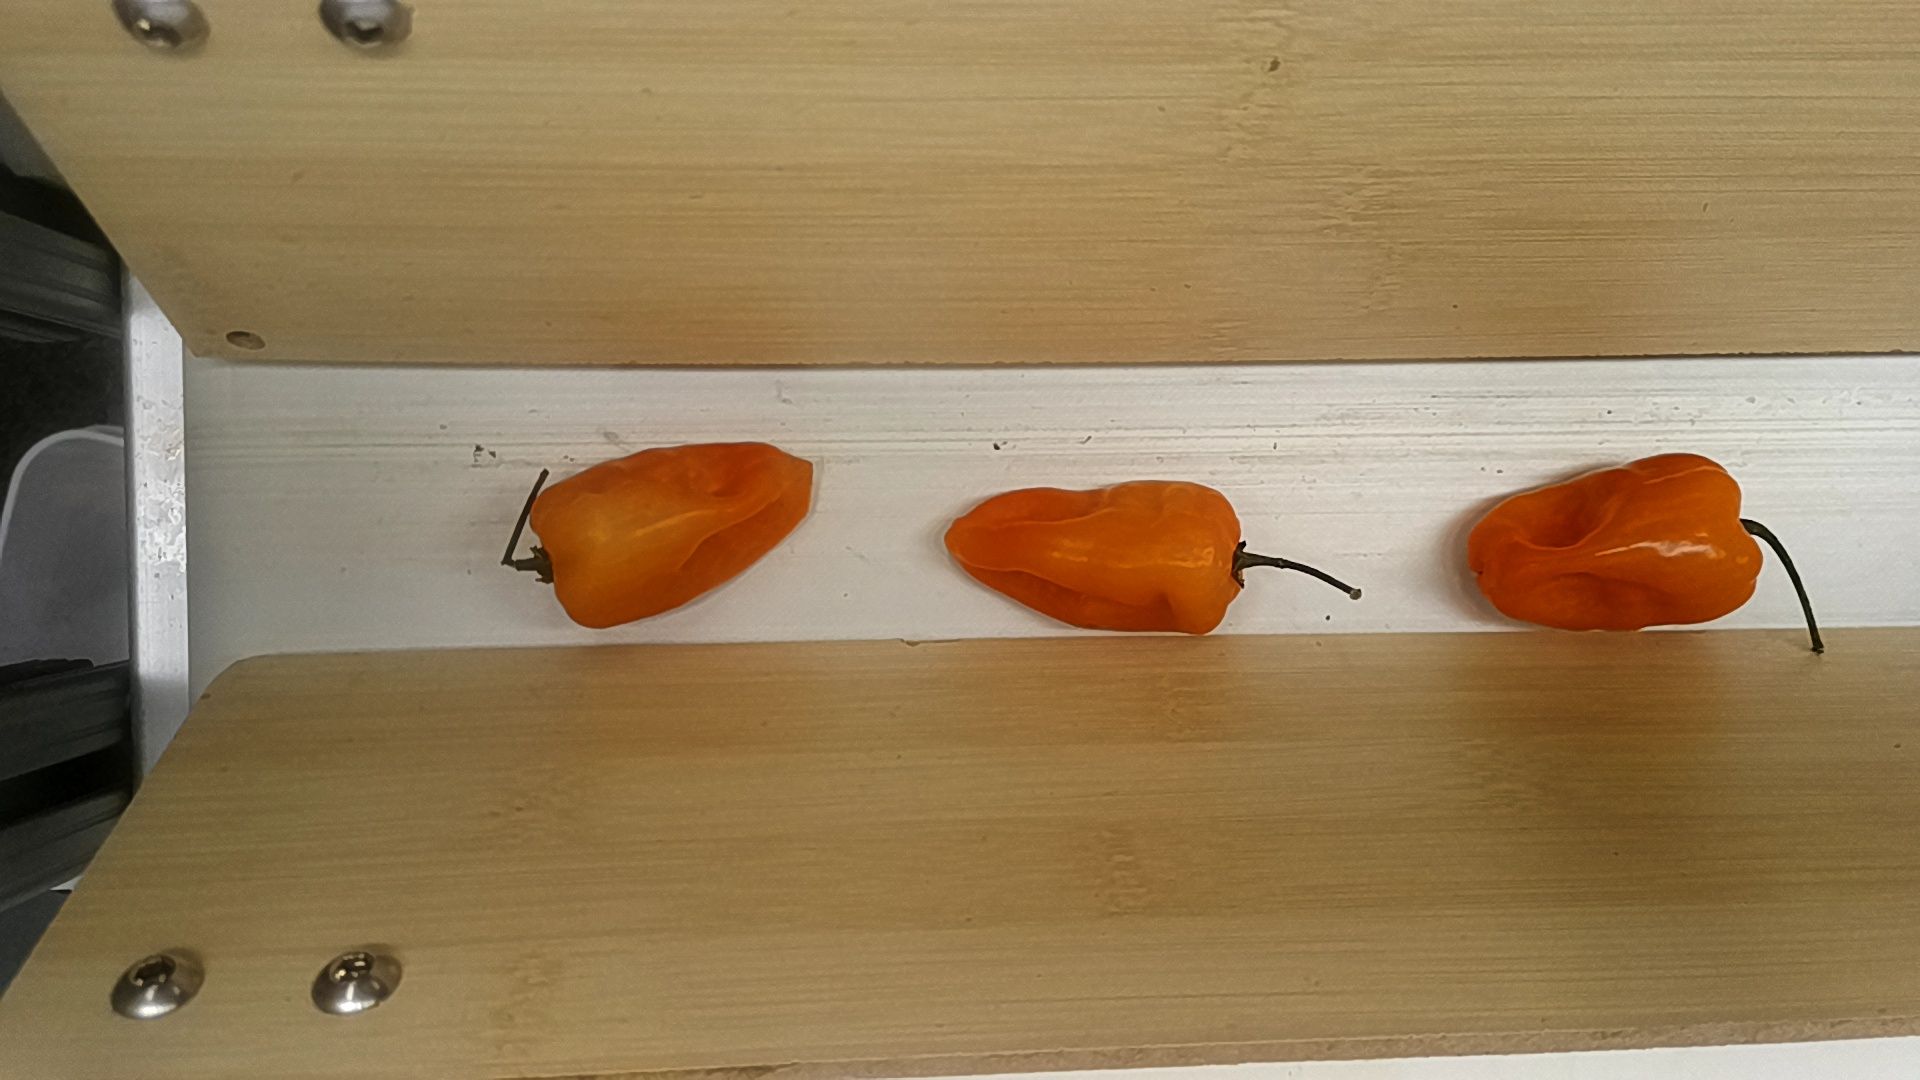Cut Point: (533, 464, 578, 650), (1717, 454, 1764, 624), (1207, 480, 1250, 636)
